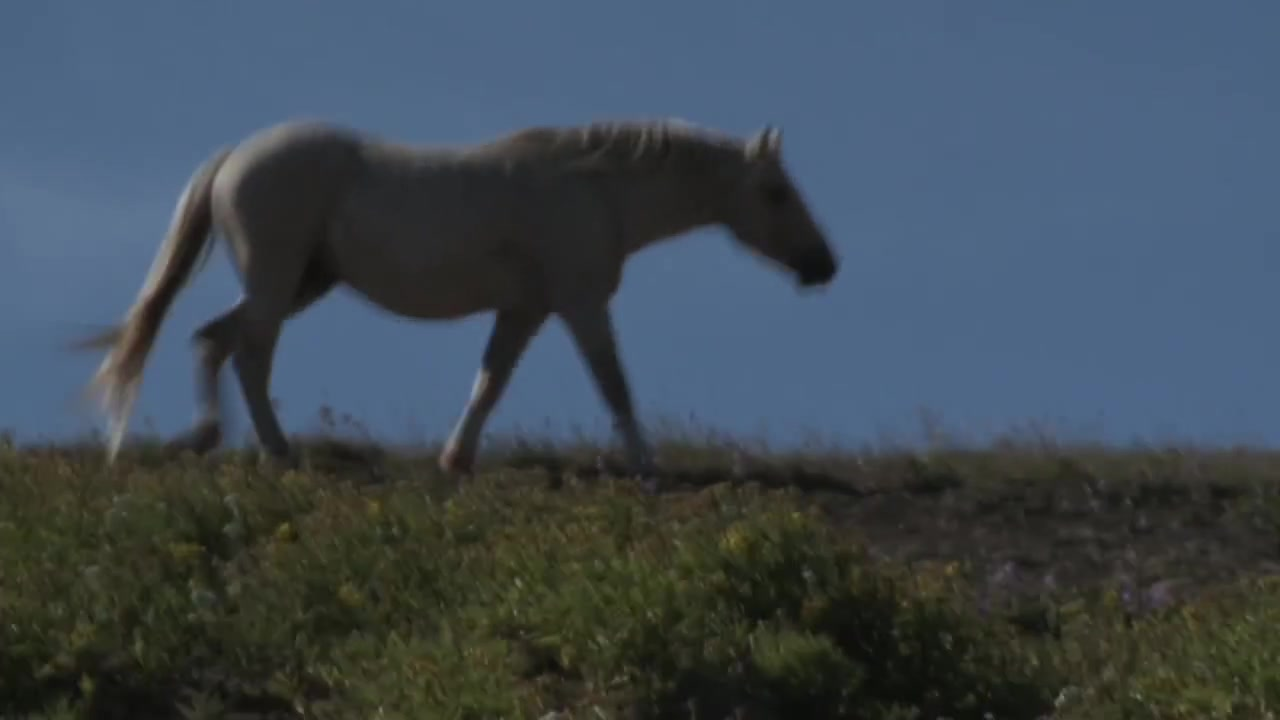horse: (95, 117, 841, 472)
